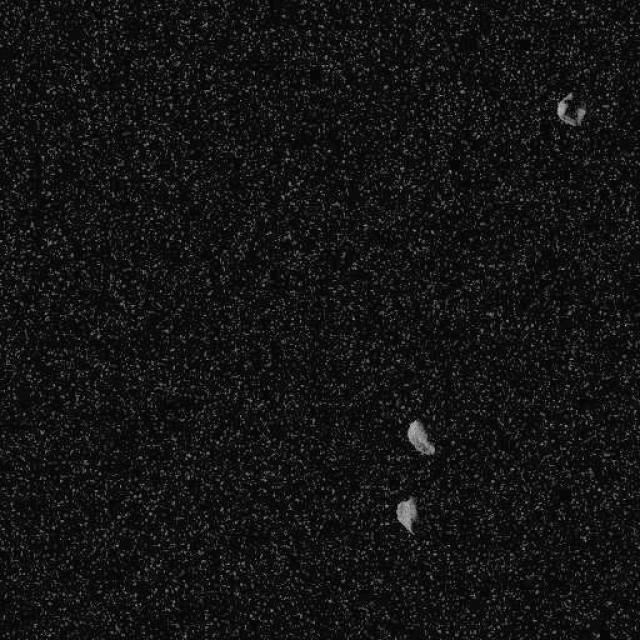D2: (405, 418, 435, 457), (555, 92, 586, 126), (393, 495, 418, 535)
